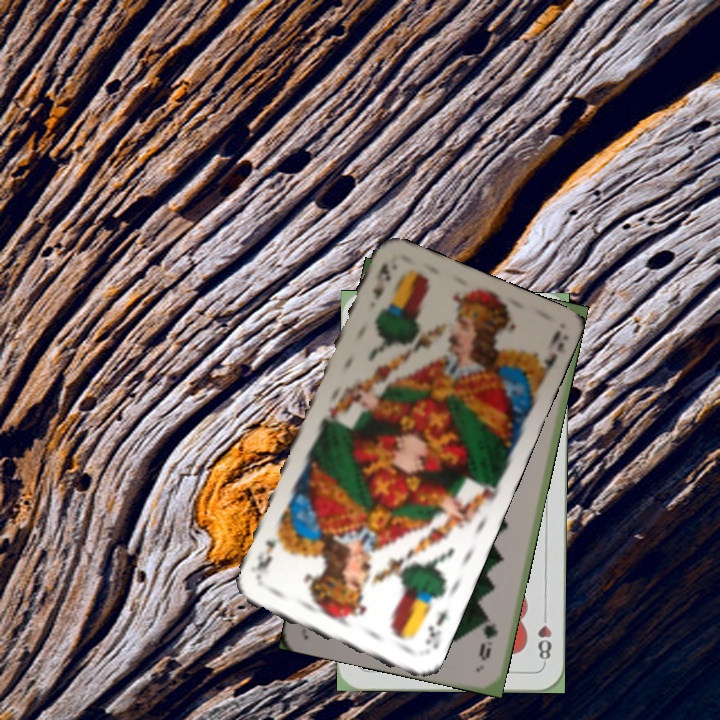EK: (421, 605, 451, 652), (369, 259, 394, 303)
G9: (474, 611, 501, 663)
H8: (534, 607, 554, 667)
